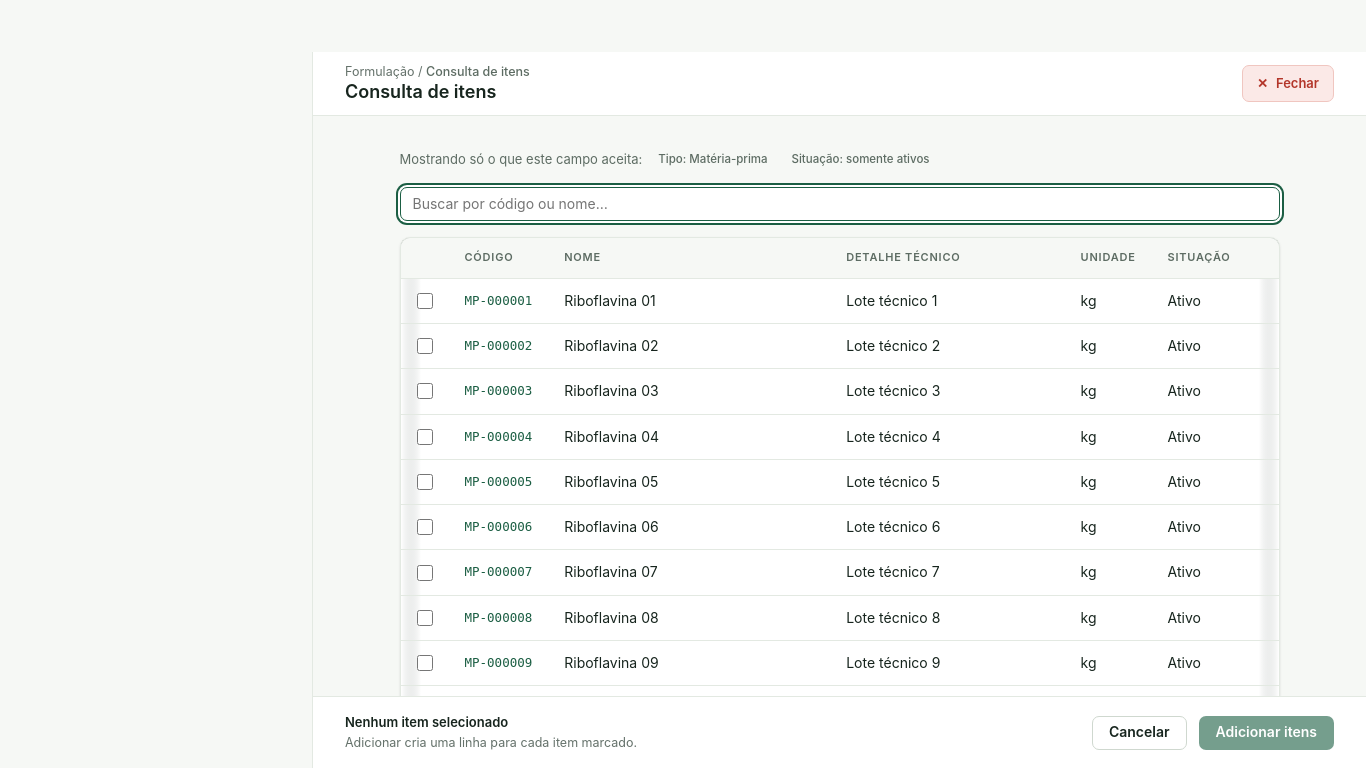
Test case: seleção múltipla › caixa por registro, marca e desmarca, e o contador e o botão acompanham
Expected: the text "Nenhum item selecionado" is shown, [345,714,508,730]
Expected: the button "Adicionar itens" is disabled, [1199,716,1334,750]
Click the checkbox named "Selecionar MP-000001 · Riboflavina 01" at (424,301), box [416,293,432,309]
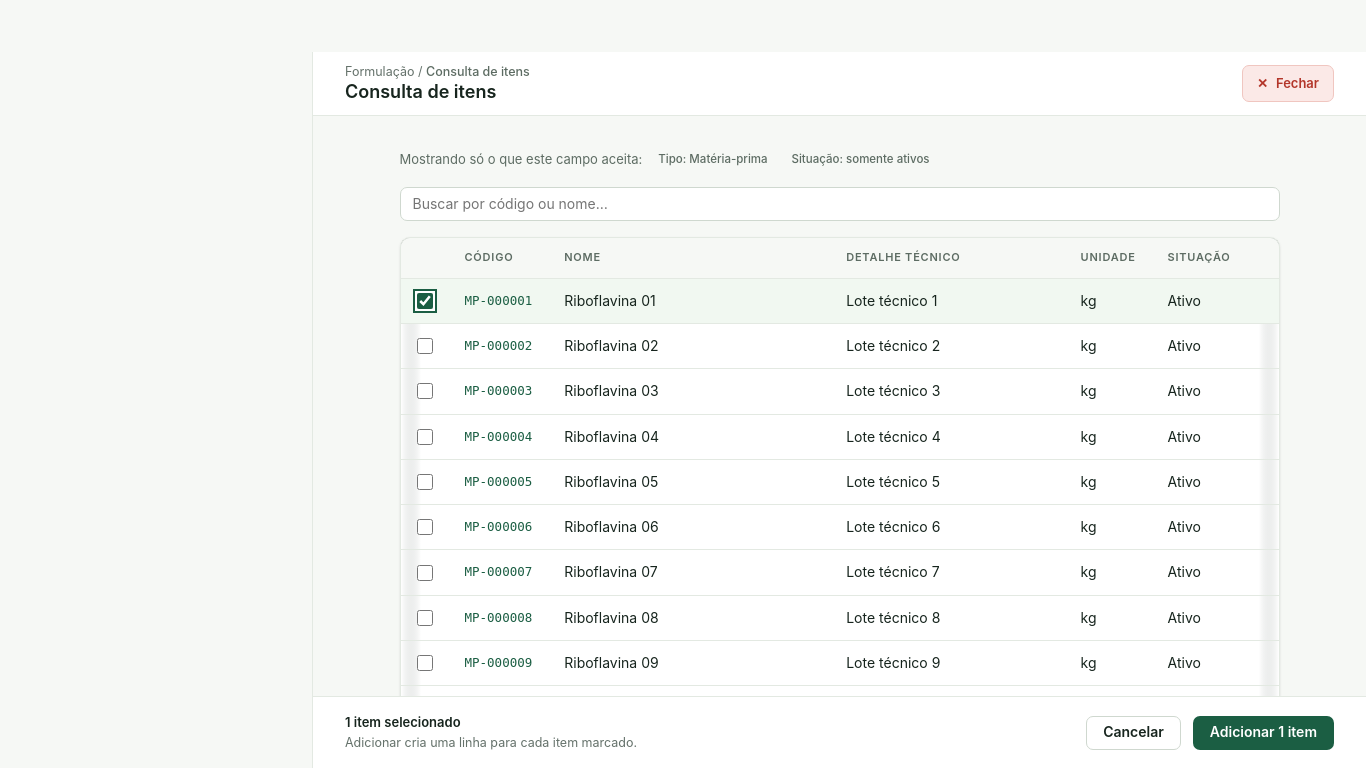
Expected: the text "1 item selecionado" is shown, [345,714,461,730]
Expected: the button "Adicionar 1 item" is enabled, [1193,716,1334,750]
Click the checkbox named "Selecionar MP-000002 · Riboflavina 02" at (424,346), box [416,338,432,354]
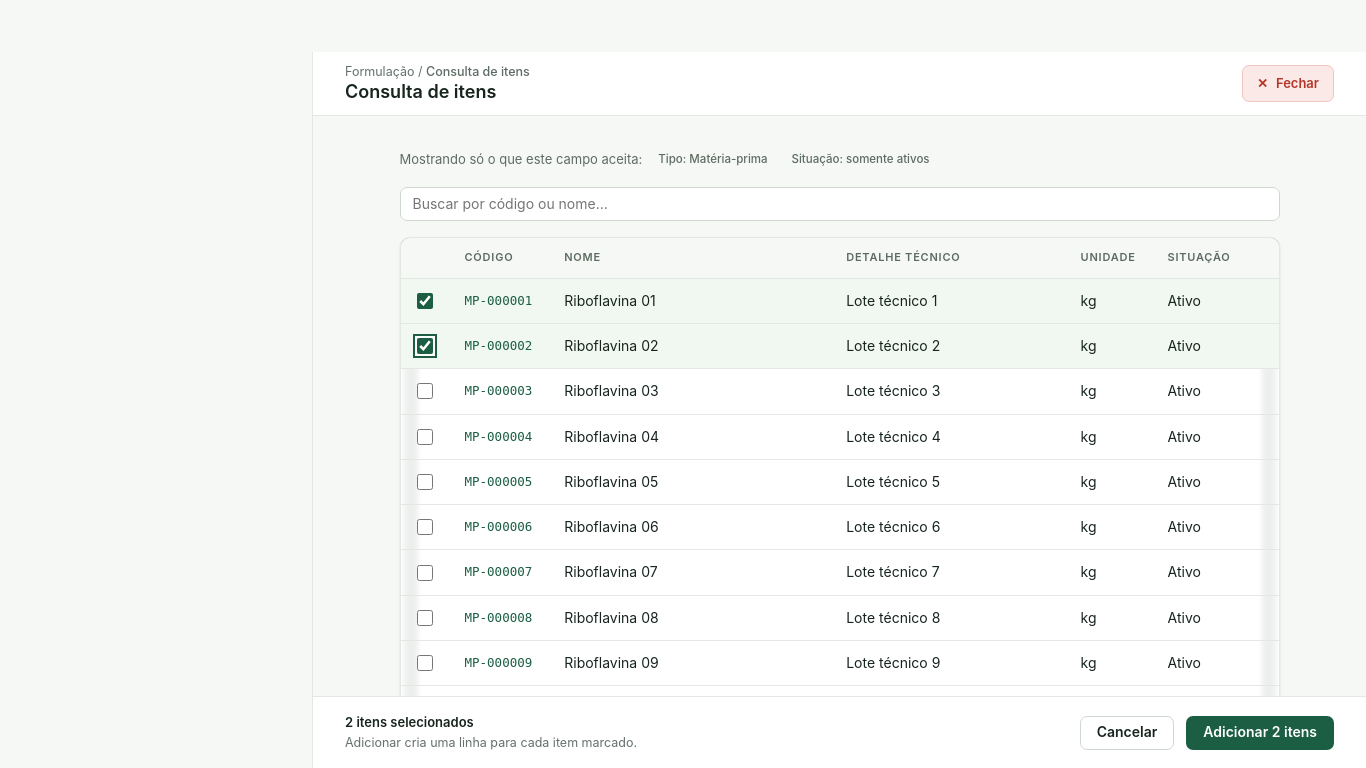
Expected: the button "Adicionar 2 itens" is enabled, [1186,716,1334,750]
Expected: the text "2 itens selecionados" is shown, [345,714,474,730]
Click the checkbox named "Selecionar MP-000001 · Riboflavina 01" at (424,301), box [416,293,432,309]
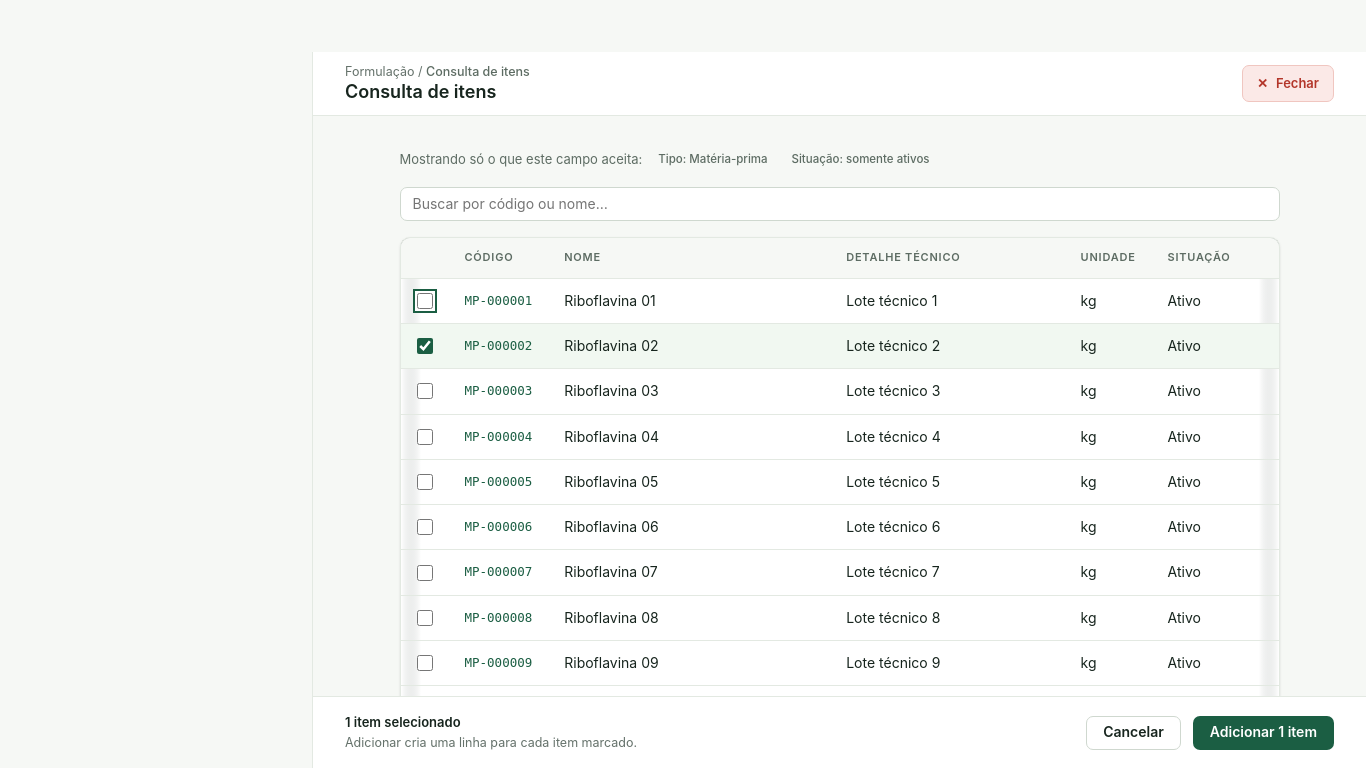
Expected: the text "1 item selecionado" is shown, [345,714,461,730]
